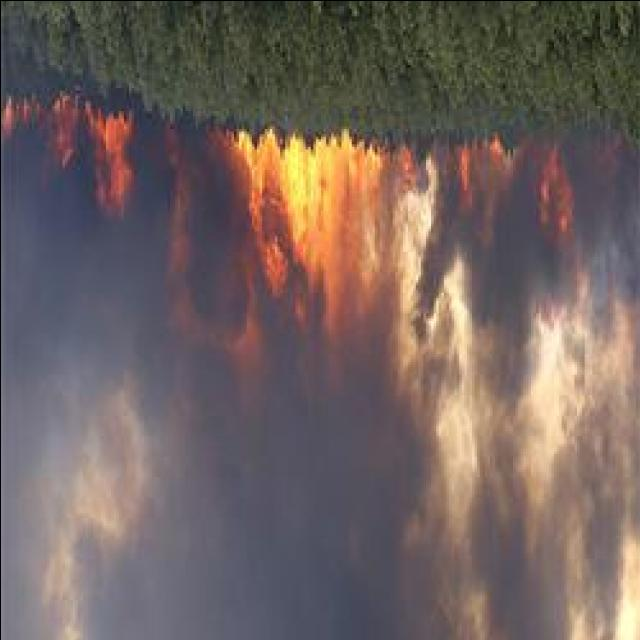fire: (230, 128, 398, 288), (93, 108, 135, 204)
smoke: (530, 437, 640, 635), (294, 412, 436, 506), (120, 344, 252, 436), (471, 256, 558, 395), (443, 466, 547, 578), (406, 214, 481, 334), (580, 137, 640, 266)
